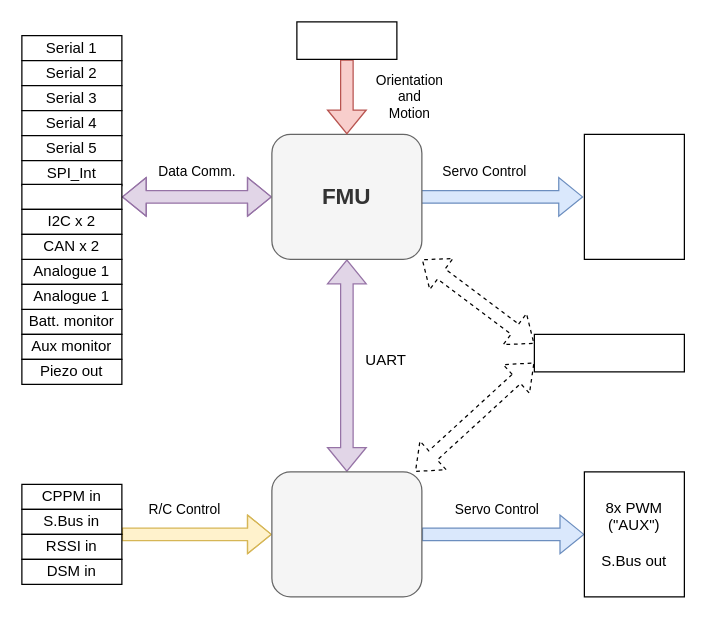
The diagram is 706 pixels wide and 619 high, and some of its shapes have lost their labels. Here are the shapes that lost their labels. From the top down, the box of each, then its label:
(296, 21, 397, 59): Sensors
(21, 183, 122, 209): SPI_Ext
(583, 133, 684, 259): 6x PWM ("MAIN")
(533, 333, 684, 372): Safety Switch & LED
(271, 471, 422, 597): IO
